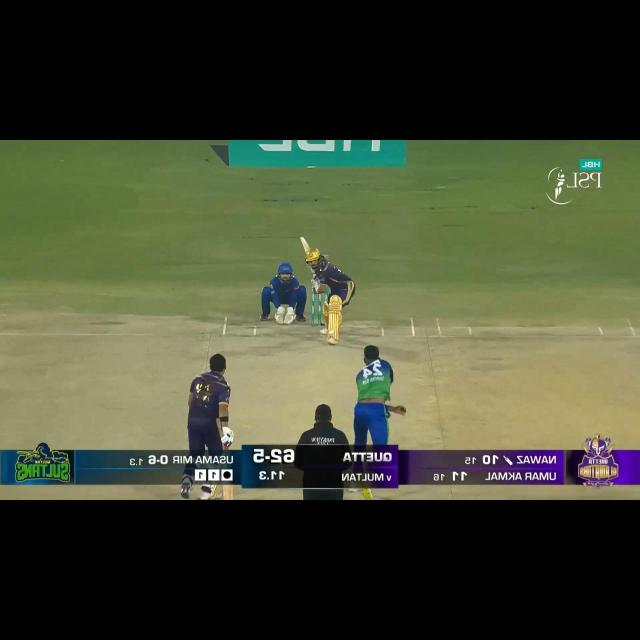bat: (222, 483, 234, 500), (300, 237, 311, 252)
toe: (300, 235, 308, 248), (222, 493, 234, 500)
